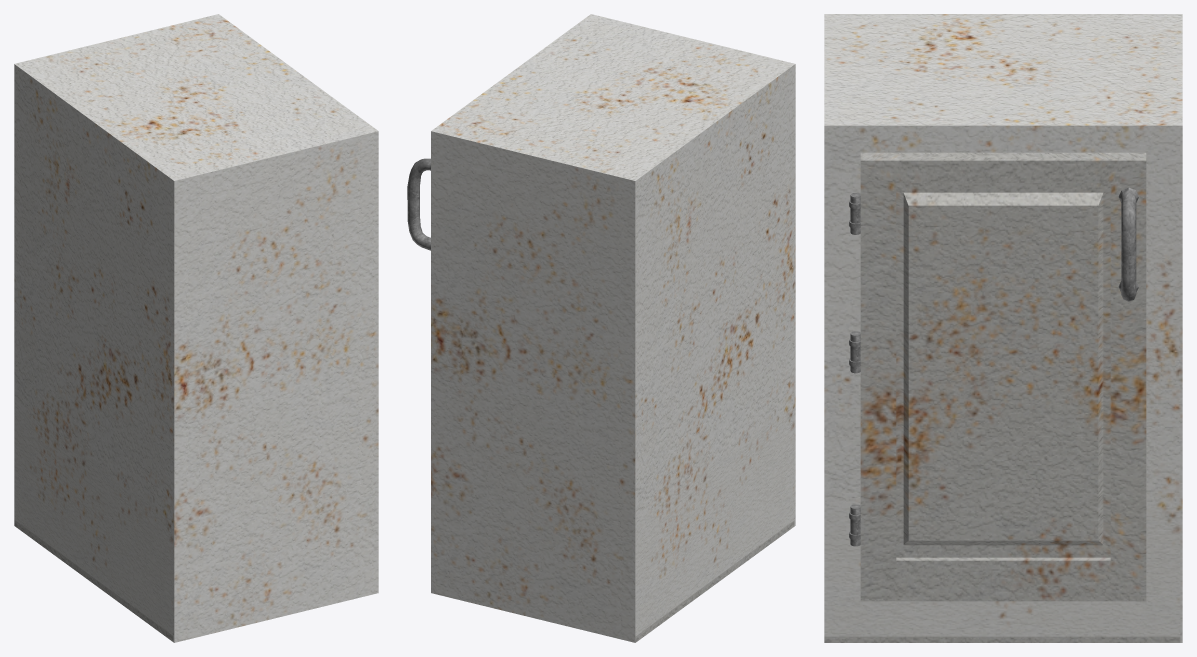
Rendered from YuchenZ_Fridge_Master.fbx.
3 views of the same model, side by side, from view 1: azimuth 30°, elevation 25°; view 2: azimuth 150°, elevation 25°; view 3: azimuth 270°, elevation 25° (orthographic). The views are drawn at different scales.
Visible parts, largest first — view 1: polySurface1; view 2: polySurface1; view 3: polySurface1.
Boxes of the visible parts, x1=… form: polySurface1: x1=14, y1=14, x2=378, y2=642; polySurface1: x1=407, y1=14, x2=795, y2=642; polySurface1: x1=824, y1=14, x2=1182, y2=642.
Bounding box in the file's own units: 2.58 × 4.52 × 2.84.
